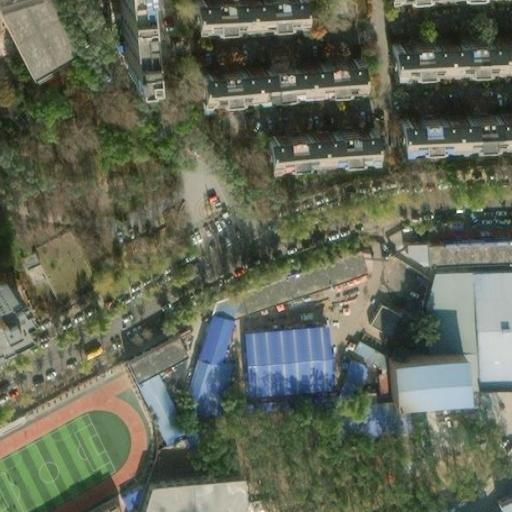building: (174, 247, 359, 406), (197, 53, 363, 94), (237, 323, 324, 399), (415, 270, 474, 365), (466, 270, 511, 384), (385, 31, 512, 70), (395, 107, 512, 146), (385, 360, 468, 414), (257, 122, 361, 158), (123, 362, 176, 431), (111, 324, 177, 375), (140, 480, 241, 512), (318, 399, 391, 436), (421, 236, 512, 265), (0, 281, 31, 351), (334, 353, 371, 399), (366, 300, 405, 338), (347, 334, 390, 366), (64, 496, 104, 512), (496, 488, 511, 512)
